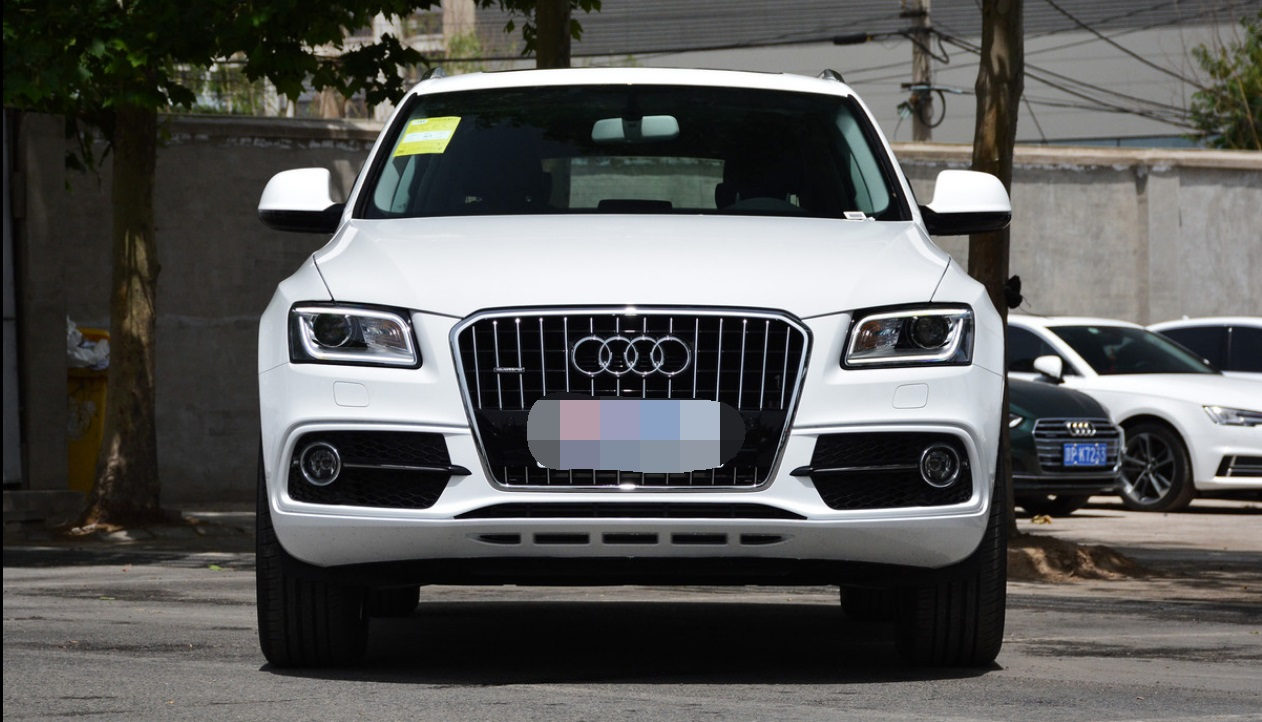SUV: (243, 60, 1023, 678)
